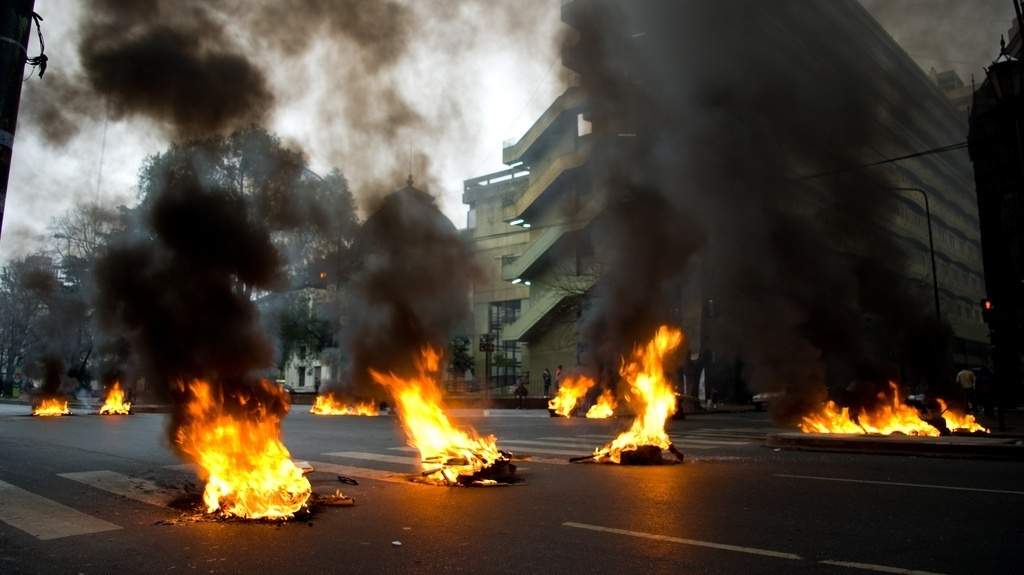fire: (321, 348, 503, 484), (545, 318, 688, 462), (174, 375, 309, 521), (792, 380, 995, 440), (97, 374, 130, 415), (31, 389, 72, 418)
